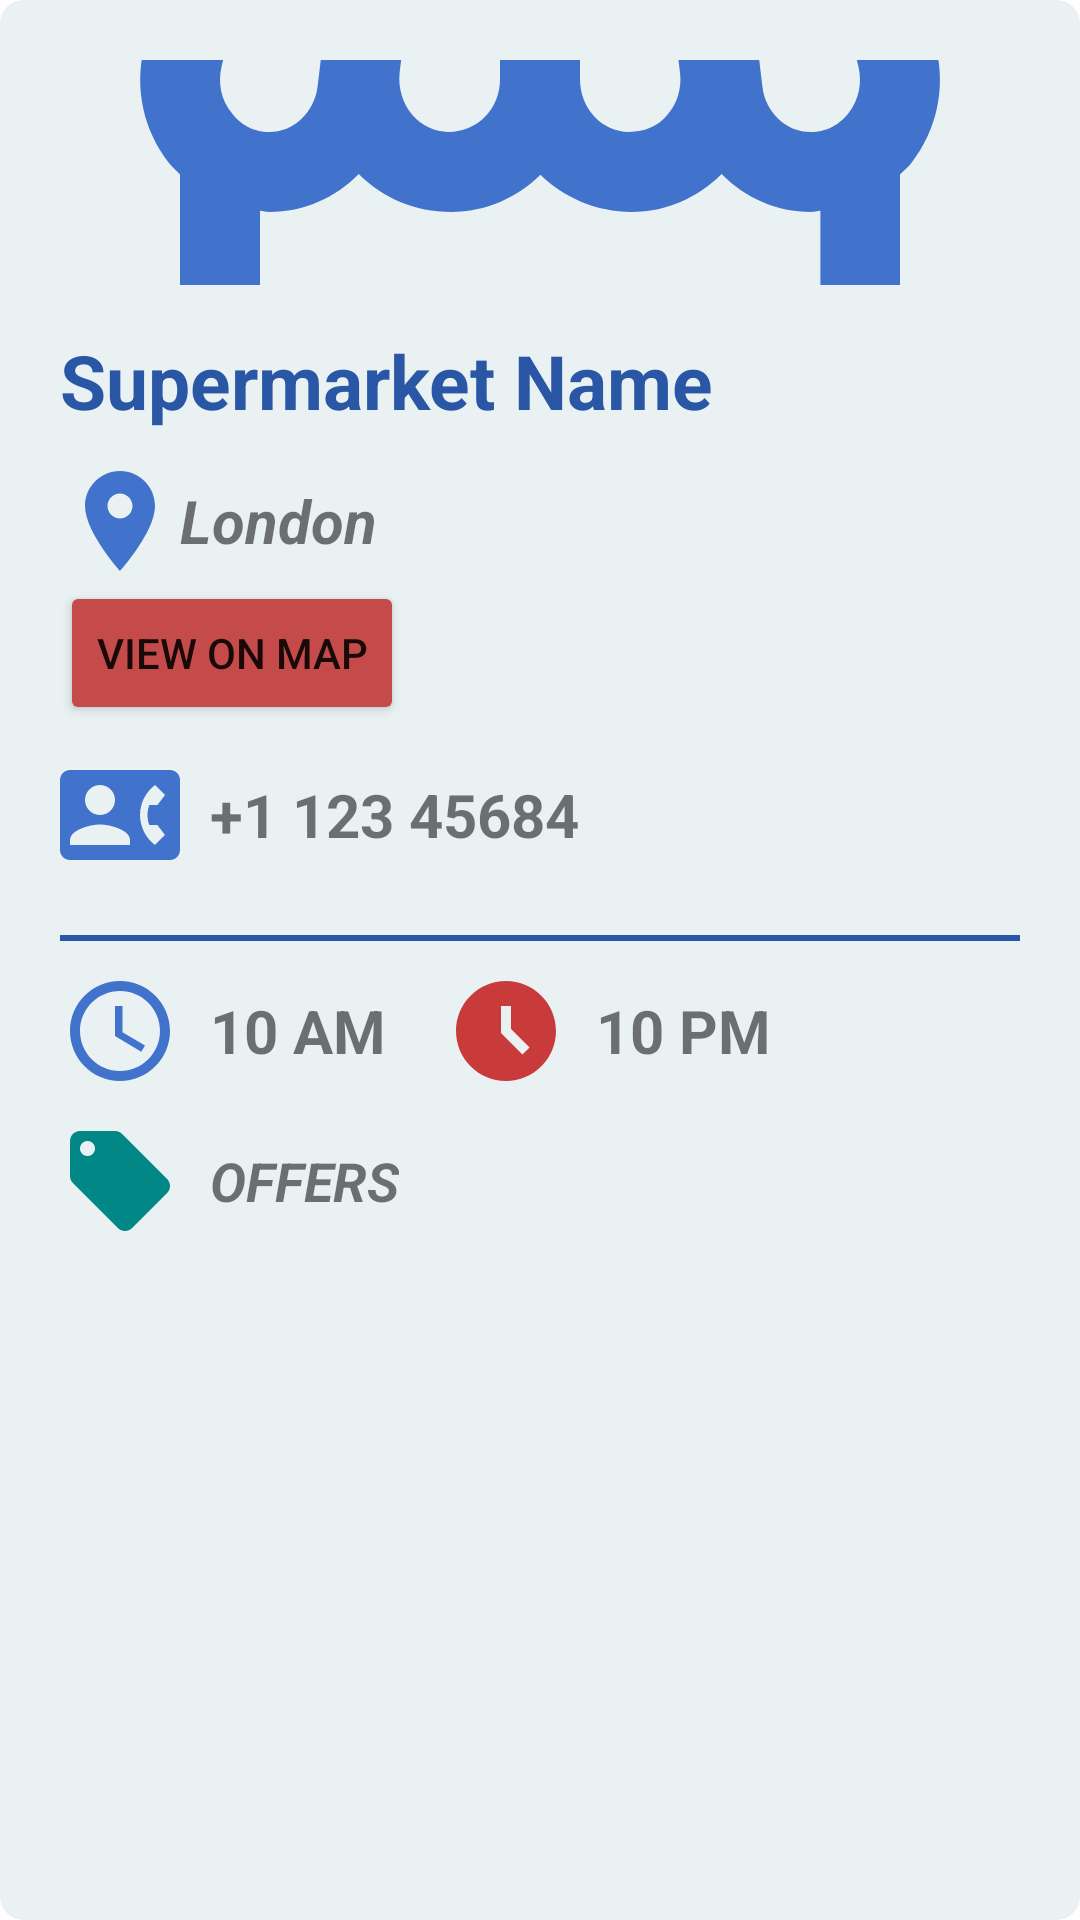

Icons on this 1080px×1920px Android screen, each with the point to tap as (x,y):
access time: (120,1031), (506,1031)
contact phone: (120,815)
local offer: (120,1181)
location on: (120,521)
